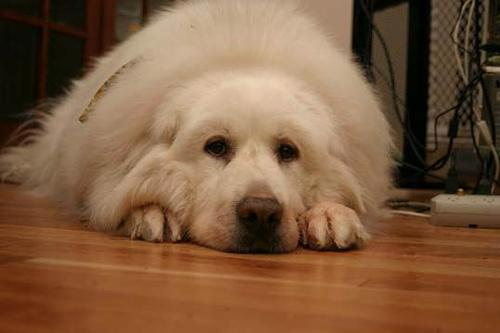Great_Pyrenees: (0, 0, 404, 256)
